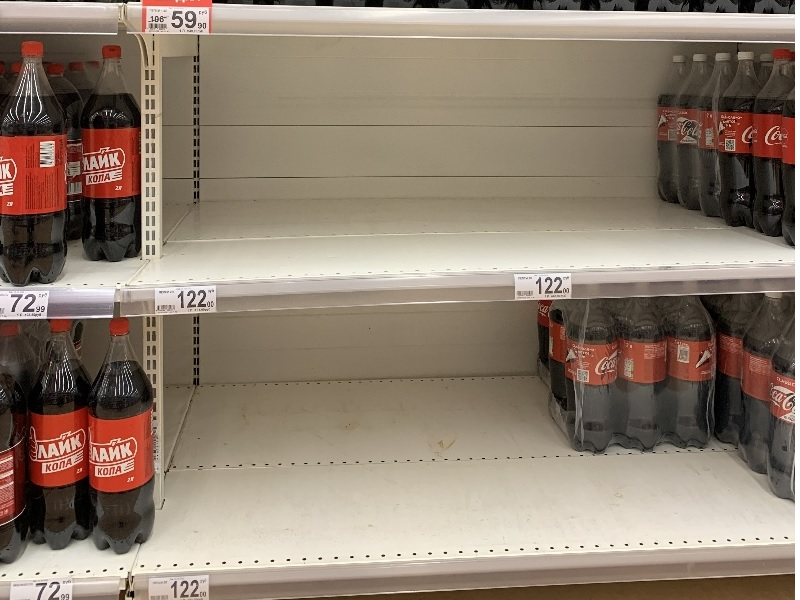lemonade: (84, 316, 165, 554), (23, 311, 100, 559), (1, 32, 73, 297), (73, 40, 150, 270)
